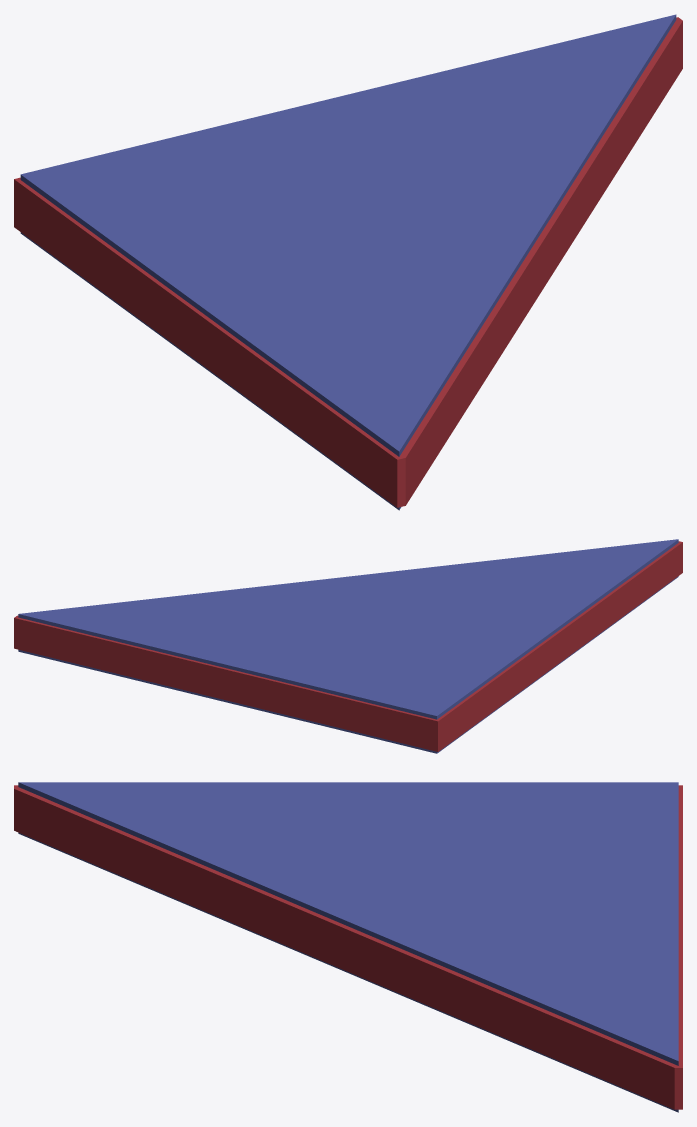
File: SM_TilingFloor7.fbx
3 views of the same model, one above another, from view 1: azimuth 30°, elevation 25°; view 2: azimuth 150°, elevation 25°; view 3: azimuth 270°, elevation 25° (orthographic). The views are drawn at different scales.
Parts seen in each view (by area): view 1: SM_TilingFloor7; view 2: SM_TilingFloor7; view 3: SM_TilingFloor7.
Part boxes in pixels (x1,y1,x2,y2): SM_TilingFloor7: (14,14,682,510); SM_TilingFloor7: (14,539,682,753); SM_TilingFloor7: (14,782,682,1112).
Bounding box in the file's own units: 800 × 67.89 × 800.
